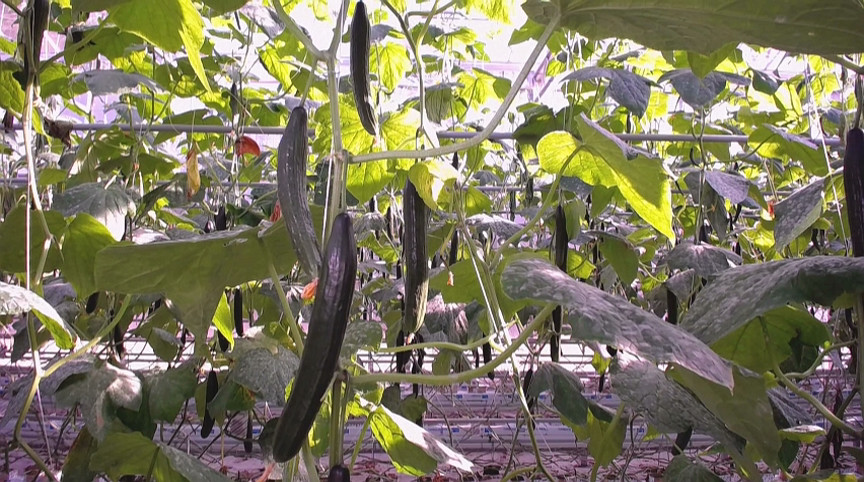cucumber: (272, 213, 357, 463), (276, 107, 325, 279), (349, 2, 380, 137), (403, 176, 428, 335), (844, 127, 864, 255), (199, 371, 220, 438), (554, 206, 570, 274), (231, 290, 245, 338)
